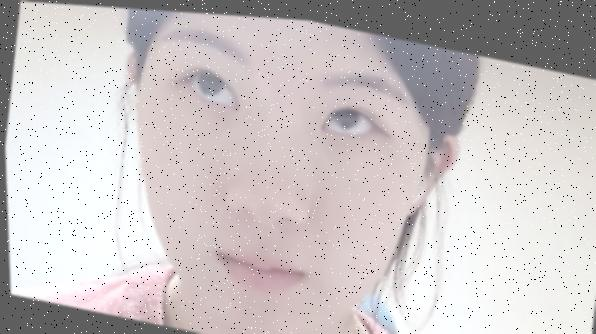eye: (329, 93, 363, 127), (194, 62, 228, 95)
iris: (183, 63, 243, 107), (317, 95, 379, 137)
